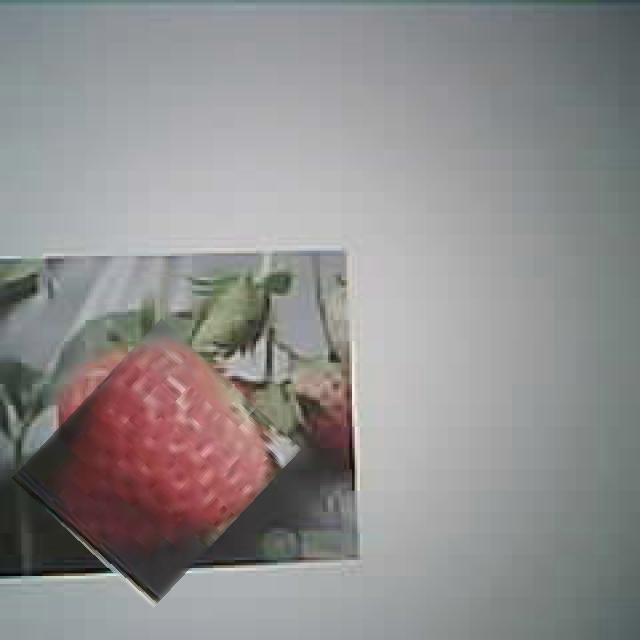strawberry: (37, 336, 277, 591)
